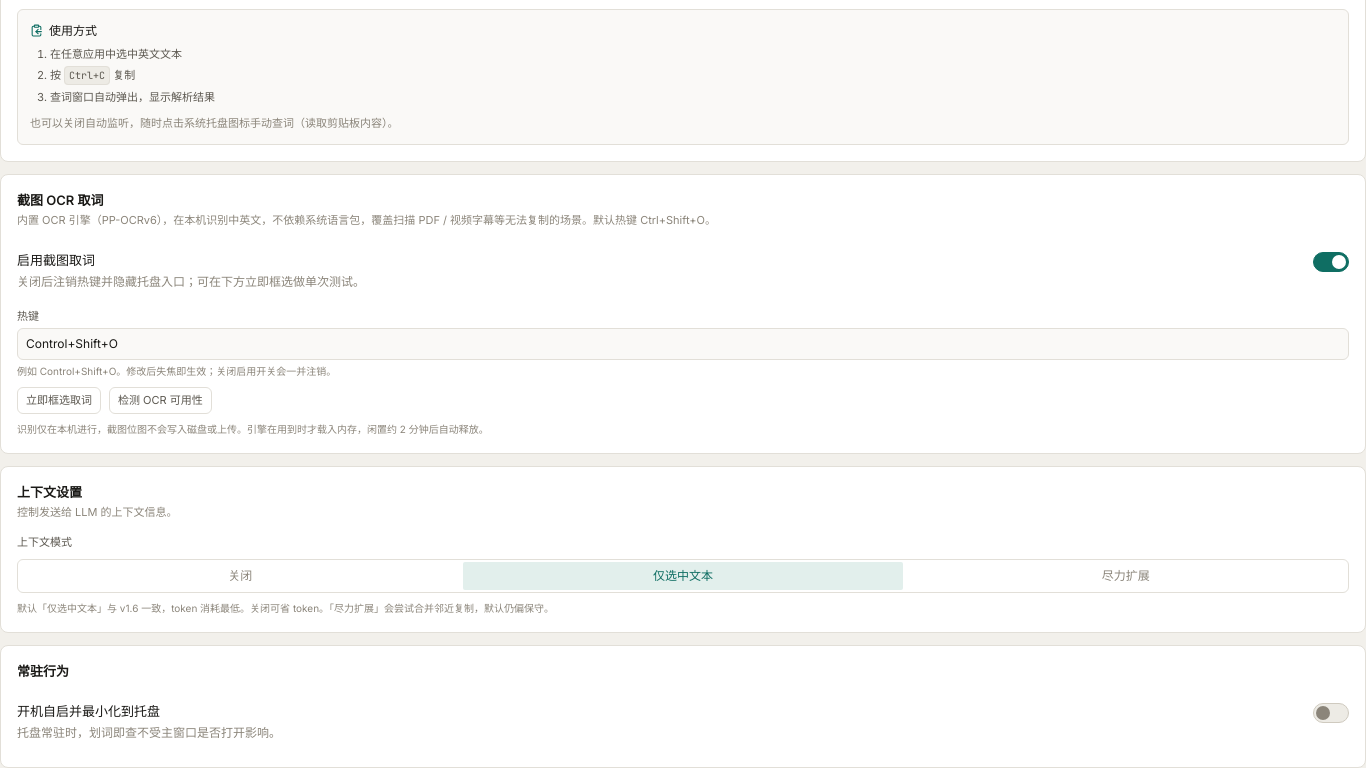
Test: the settings of capturing text › checking that text can be recognized in a picture › says that it cannot, and why, as a problem
(page scrolled)
Click the button "检测 OCR 可用性" at (160, 400), box [109, 387, 212, 414]
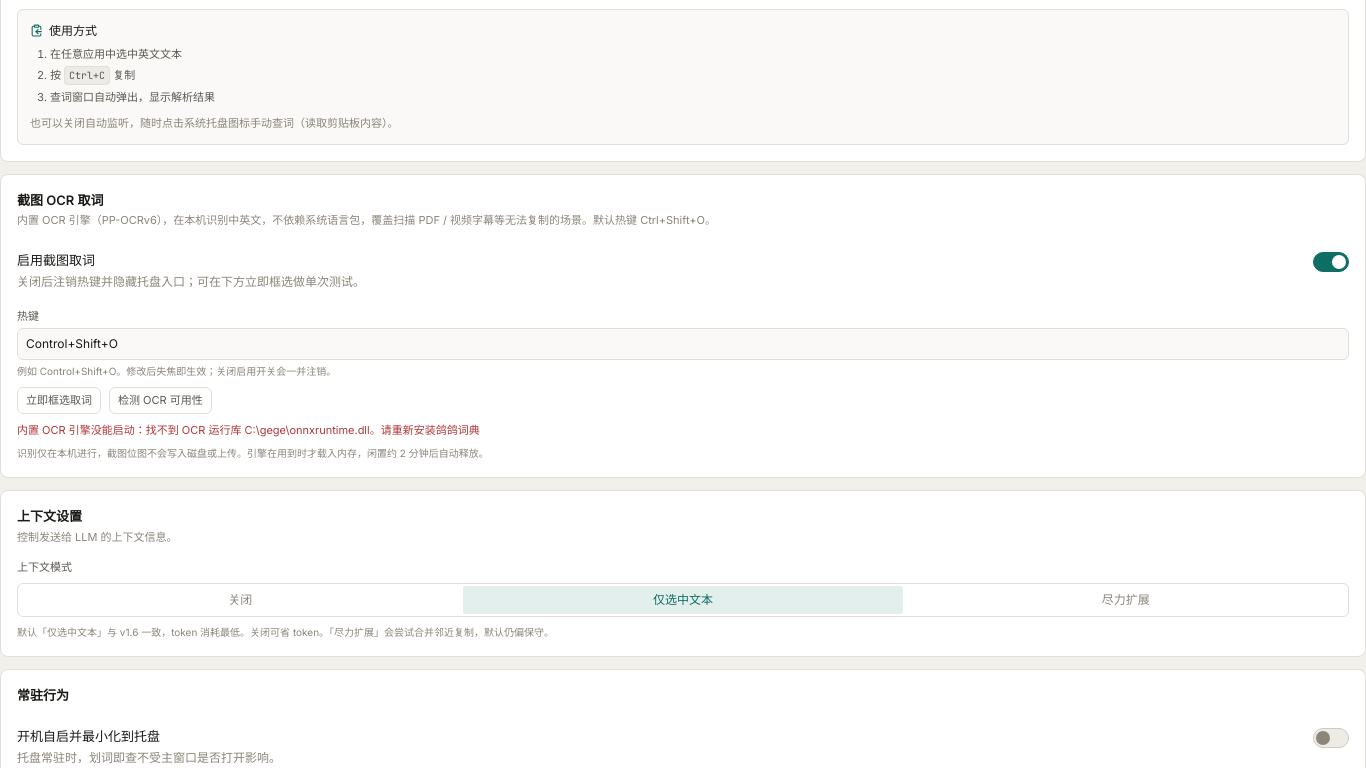
Expected: the message reads "内置 OCR 引擎没能启动：找不到 OCR 运行库 C:\\gege\\onnxruntime.dll。请重新安装鸽鸽词典", [17, 423, 480, 437]
